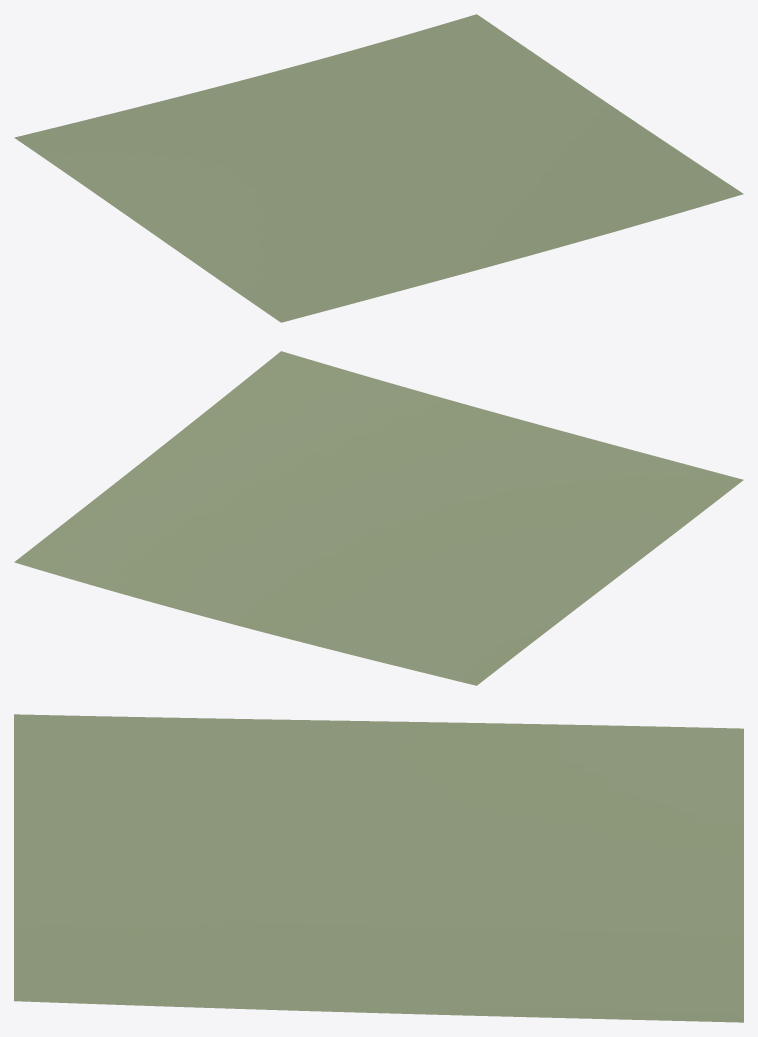
Rendered from expanse-3-26.glb.
3 views of the same model, one above another, from view 1: azimuth 30°, elevation 25°; view 2: azimuth 150°, elevation 25°; view 3: azimuth 270°, elevation 25° (orthographic). The views are drawn at different scales.
Visible parts, largest first — view 1: expanse-3-26; view 2: expanse-3-26; view 3: expanse-3-26.
Boxes of the visible parts, box(x1,y1,x2,y2) form: expanse-3-26: box(14, 14, 743, 322); expanse-3-26: box(14, 351, 743, 685); expanse-3-26: box(14, 714, 743, 1022).
Size of the model in its own units: 256 by 13.88 by 256.
